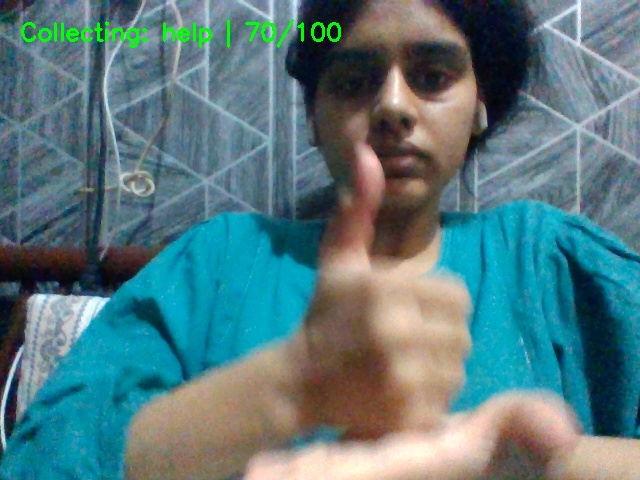help: (263, 137, 627, 480)
